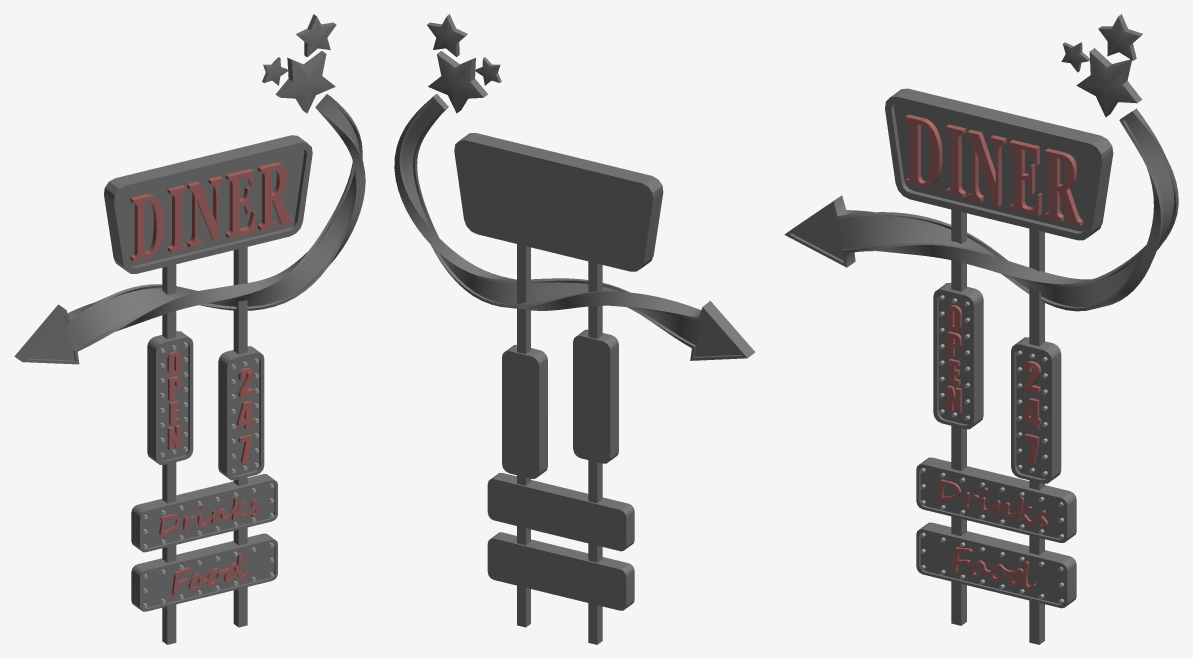
The model's file is Diner_Bigsign.fbx.
3 renders of one model, left to right at view 1: azimuth 30°, elevation 25°; view 2: azimuth 150°, elevation 25°; view 3: azimuth 330°, elevation 25°, orthographic. The views are drawn at different scales.
Parts seen in each view (by area): view 1: pCylinder255; view 2: pCylinder255; view 3: pCylinder255.
Boxes of the visible parts, <box> form: pCylinder255: <box>14,14,365,644</box>; pCylinder255: <box>394,14,755,644</box>; pCylinder255: <box>784,14,1178,644</box>.
Size of the model in its own units: 12.31 by 19.82 by 1.09.
